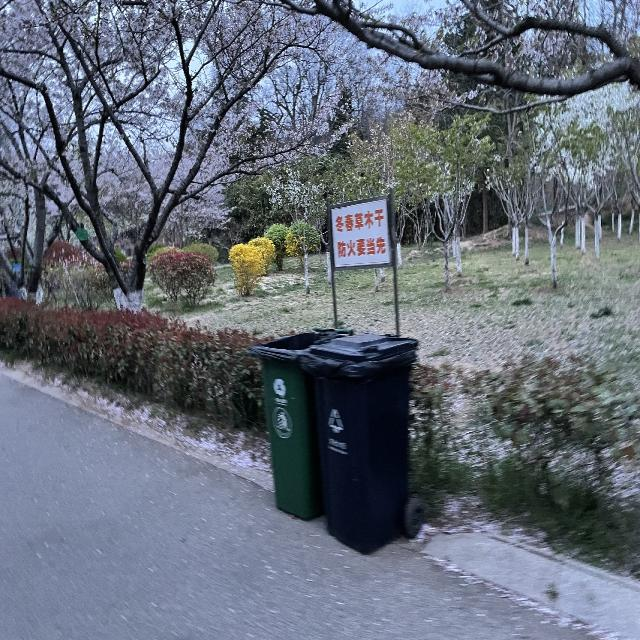garbage_bin: (300, 330, 417, 555), (252, 327, 325, 520)
